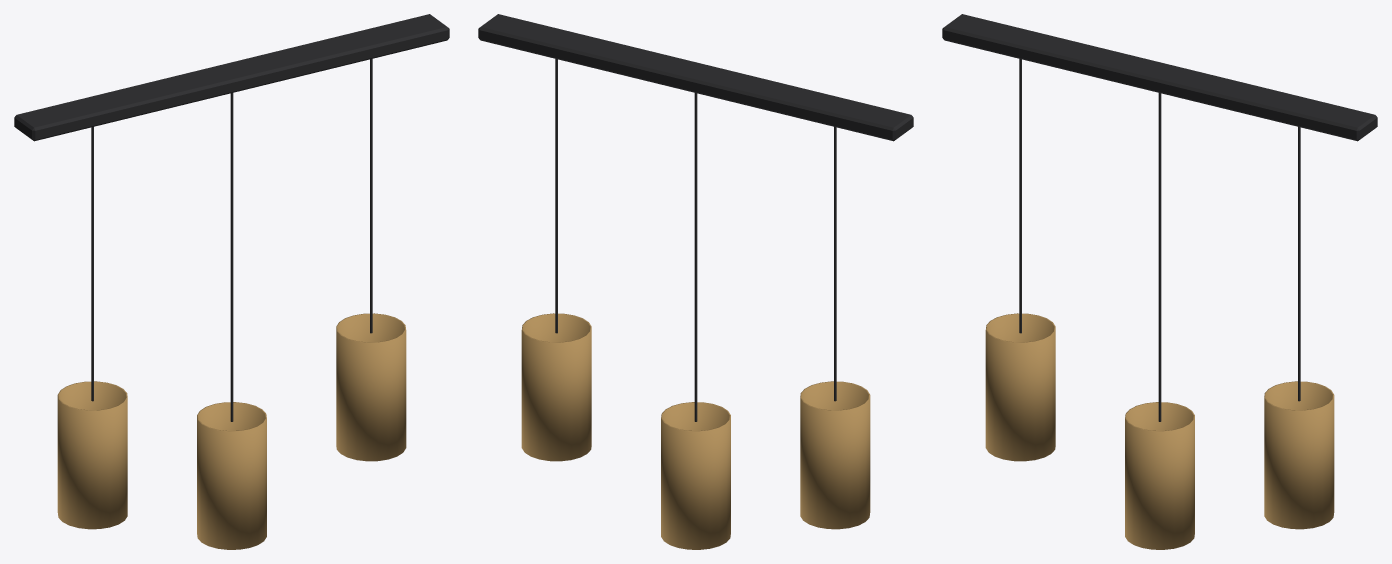
The model's file is i_pend_8.glb.
The picture shows the model from 3 angles, left to right: view 1: azimuth 30°, elevation 25°; view 2: azimuth 150°, elevation 25°; view 3: azimuth 330°, elevation 25°; orthographic projection.
Visible parts, largest first — view 1: o.009, o.007, o.001, o.004, o.003, o, o.006; view 2: o.009, o.007, o.001, o.004, o.003, o, o.006; view 3: o.009, o.001, o.007, o.004, o.003, o.006, o.
Boxes of the visible parts, x1,y1,x2,y2 form: o.009: (14, 14, 449, 141); o.007: (336, 313, 406, 461); o.001: (57, 381, 127, 529); o.004: (197, 402, 266, 549); o.003: (230, 71, 233, 421); o: (91, 127, 93, 401); o.006: (370, 59, 372, 333); o.009: (478, 14, 913, 141); o.007: (521, 313, 591, 461); o.001: (800, 381, 870, 529); o.004: (661, 402, 730, 549); o.003: (694, 93, 697, 421); o: (834, 104, 836, 401); o.006: (555, 59, 557, 333); o.009: (942, 14, 1377, 141); o.001: (985, 313, 1055, 461); o.007: (1264, 381, 1334, 529); o.004: (1125, 402, 1194, 549); o.003: (1158, 93, 1161, 421); o.006: (1298, 104, 1300, 401); o: (1019, 59, 1021, 333).
Bounding box in the file's own units: 0.96 × 1.02 × 0.14.
